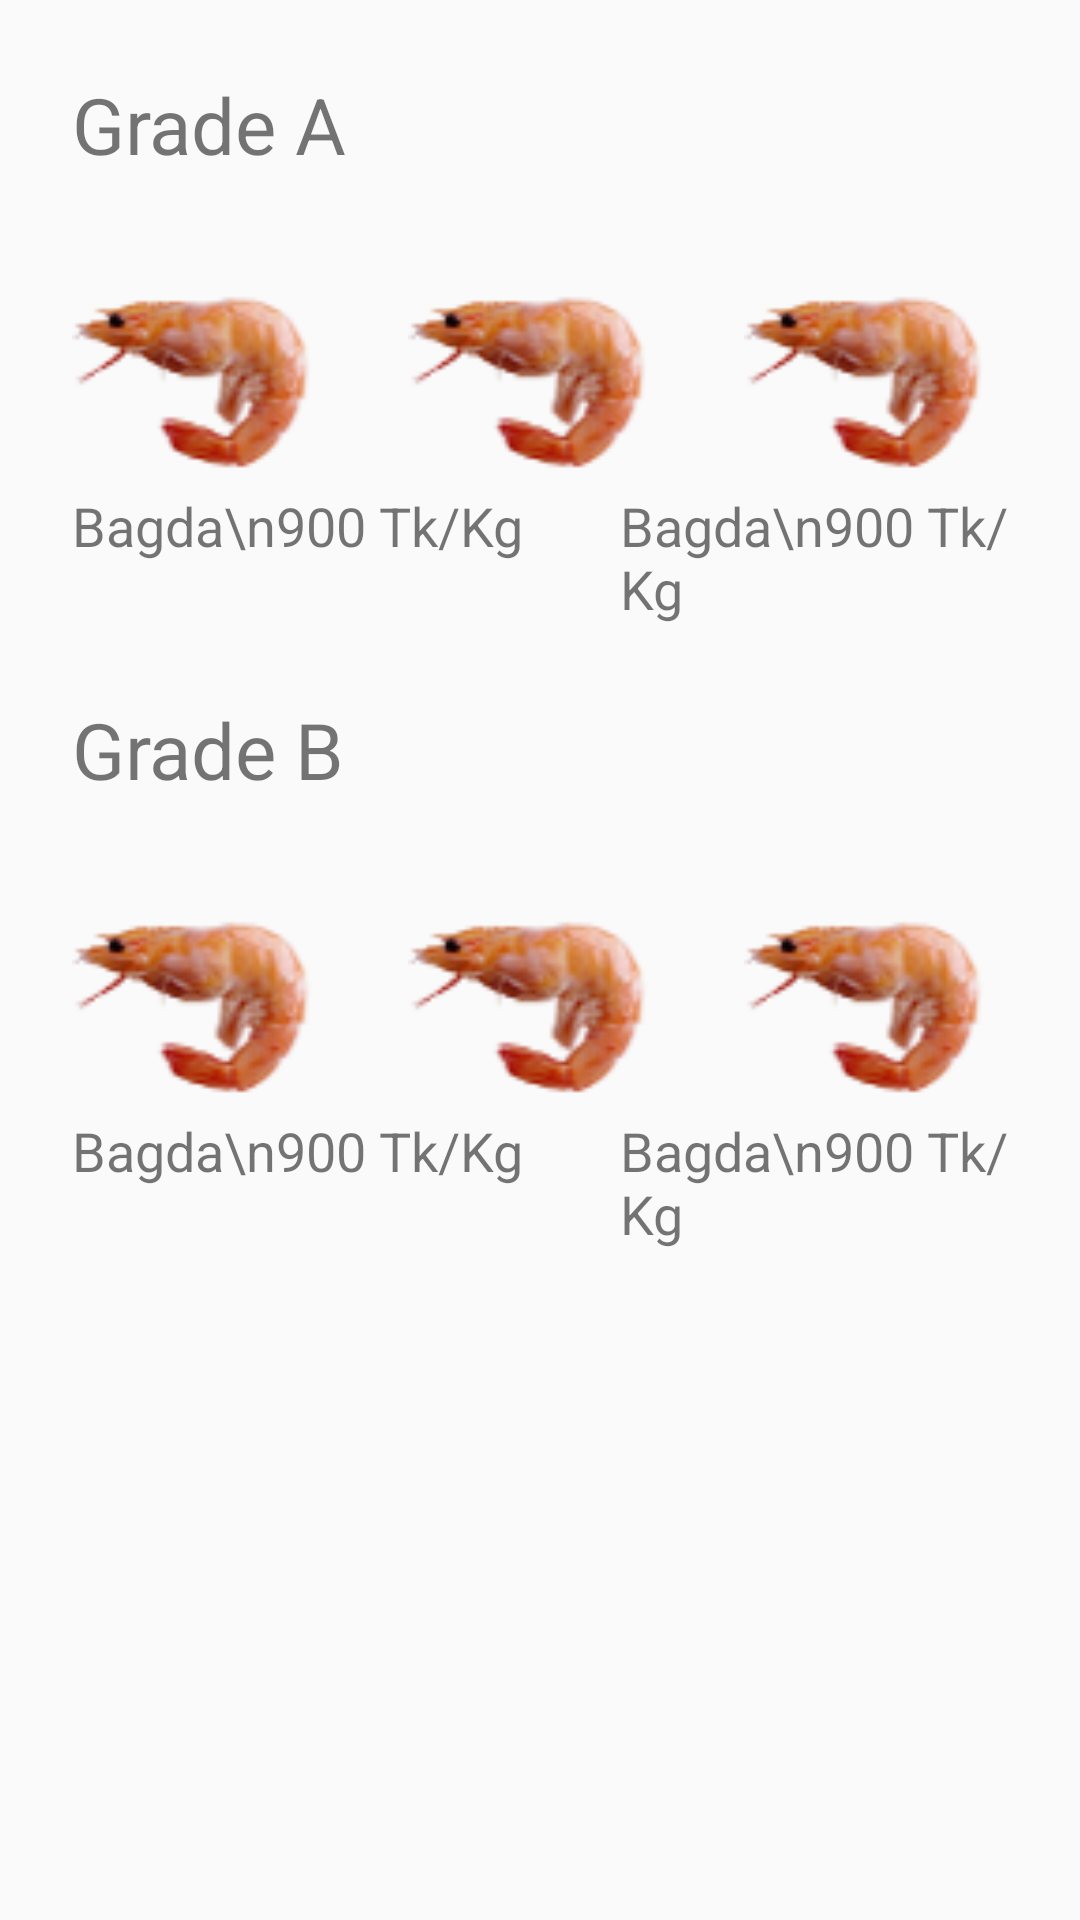

Where icons sit on this 1080px x 1920px app screen, as BBox(x1, y1, x2, y2):
shrimp: BBox(75, 297, 307, 468), BBox(411, 297, 643, 468), BBox(747, 297, 979, 468), BBox(75, 922, 307, 1093), BBox(411, 922, 643, 1093), BBox(747, 922, 979, 1093)
